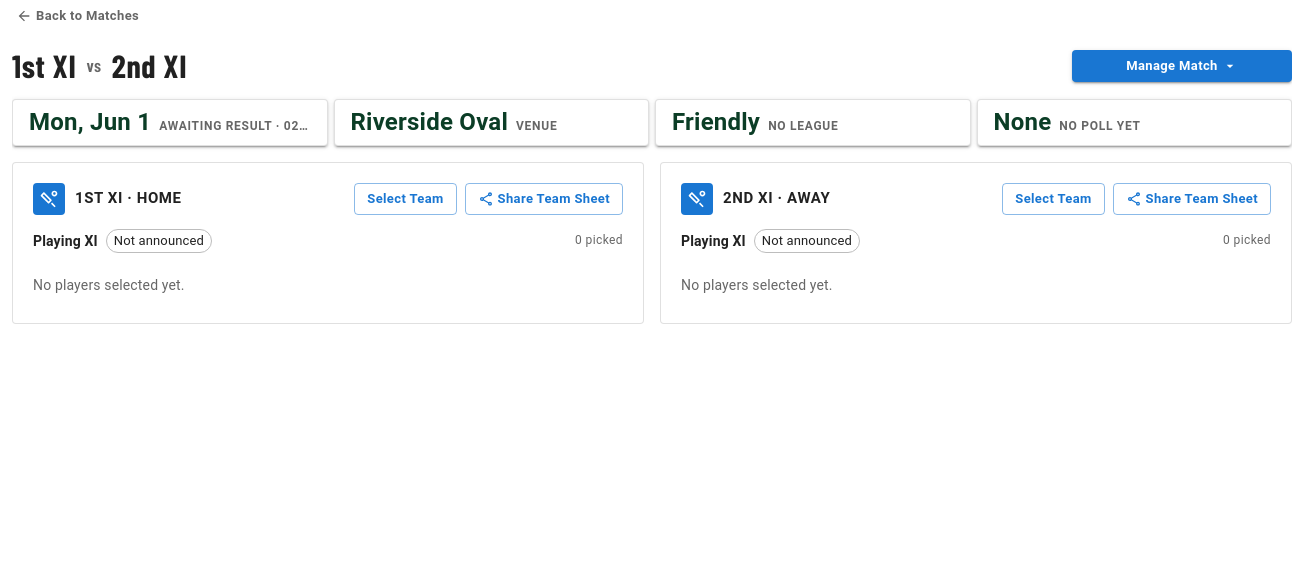
it: MatchDetailPage › team actions and availability › puts Edit Match first and Share Team Sheet last in Manage Match
Click the button "Manage Match" at (1182, 66), box top-left (1072, 50), bottom-right (1292, 82)
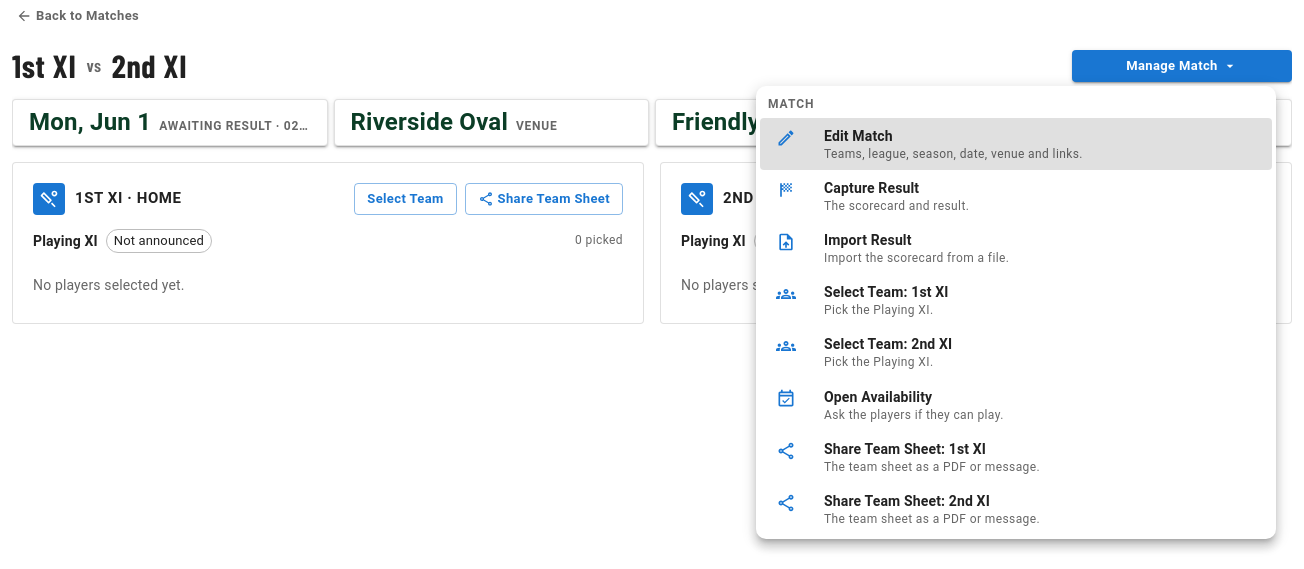
Check: the text "Edit Match" is shown, box top-left (824, 128), bottom-right (893, 144)
Check: the text "Share Team Sheet: 2nd XI" is shown, box top-left (824, 493), bottom-right (990, 509)
